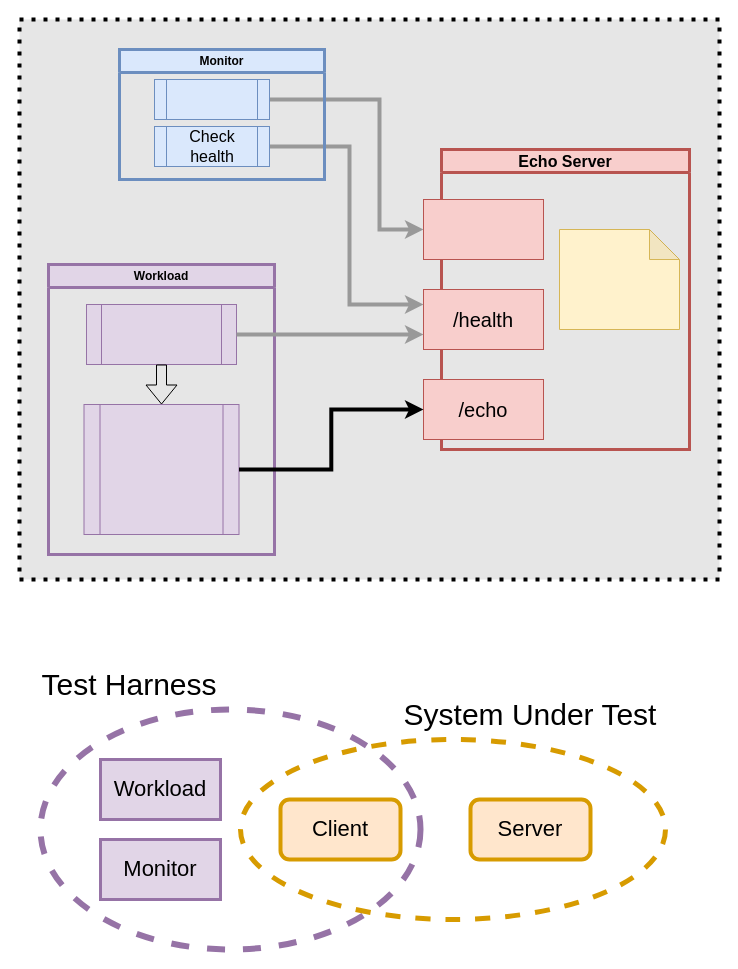
Some shapes in this 738 by 969 pixel diagram are drawn without their labels. Here are the shapes that lost their labels. From the top down, the box of each, then its label:
(154, 78, 270, 120): Print stats
(422, 198, 544, 260): /stats
(558, 228, 680, 330): HTTP/1.0 Single-thread
(86, 304, 236, 364): Wait for server
(83, 404, 239, 534): Repeat: Send request, check response
